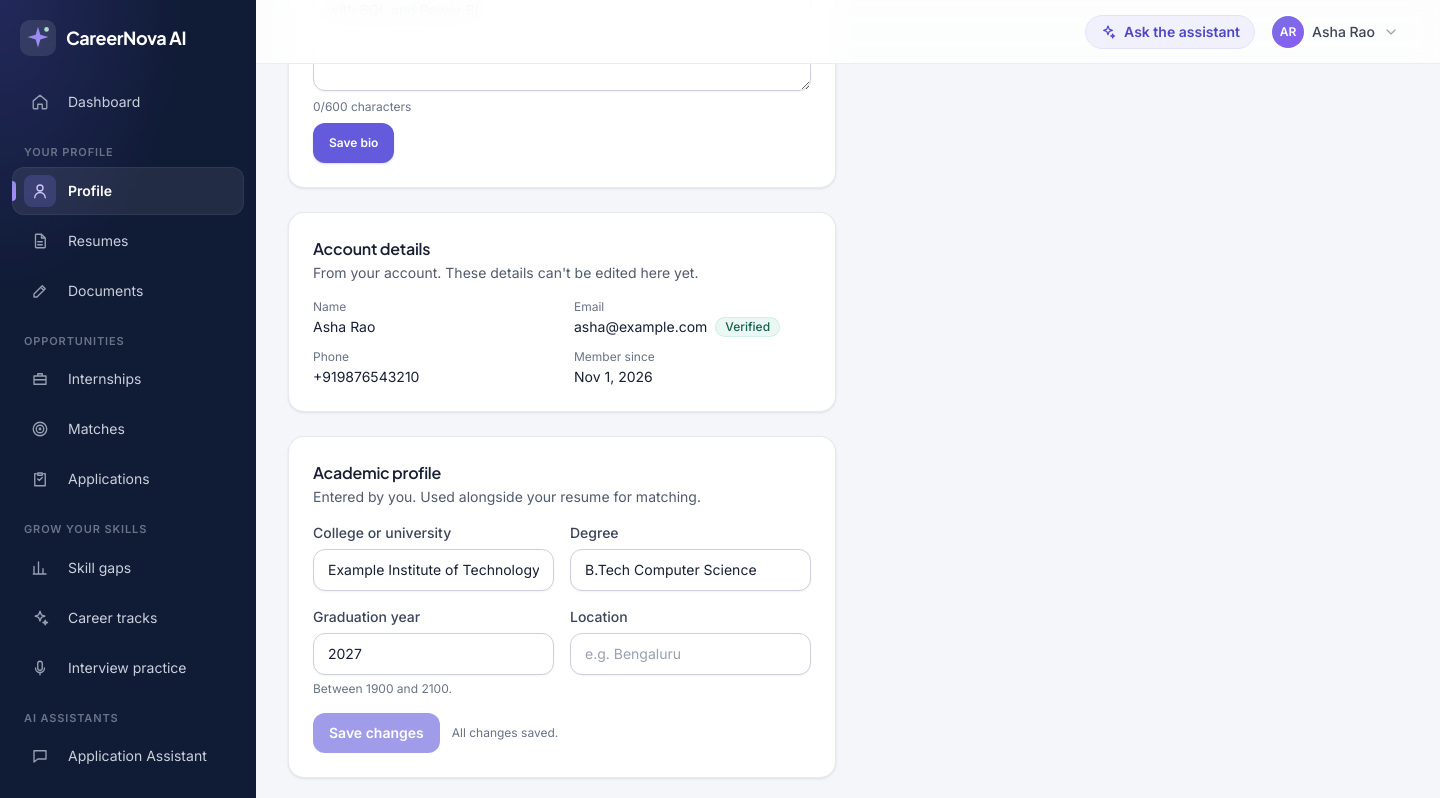
Scenario: Profile: existing profile › shows saved values and sends only the changed fields
This screenshot has width=1440, height=798.
(page scrolled)
Expected: the field labelled "Graduation year" holds "2027", [313,633,554,675]
Expected: the button "Save changes" is disabled, [313,713,440,753]
Type "Bengaluru" into the field labelled "Location" at x=690, y=654, box [570,633,811,675]
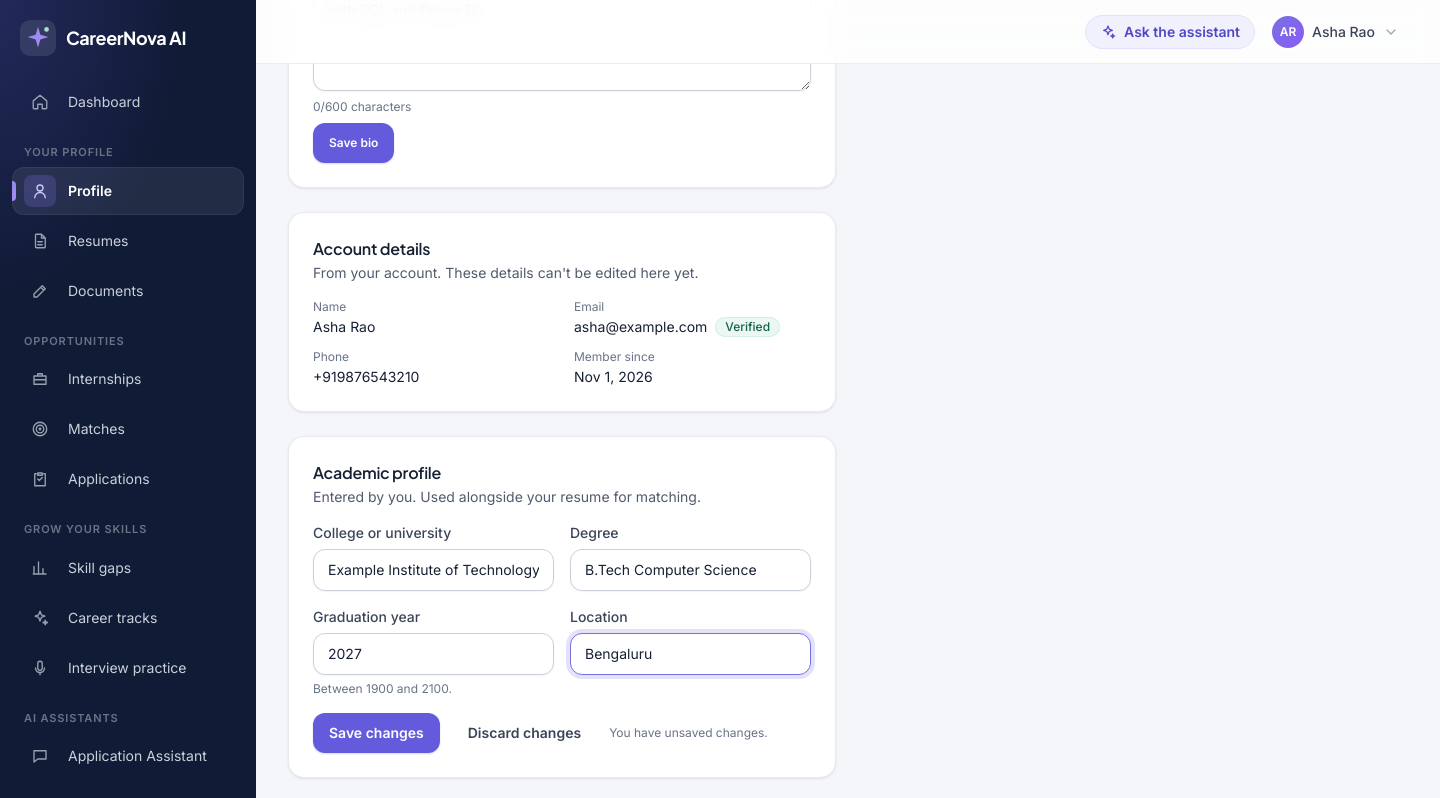
Clear the field showing "B.Tech Computer Science" at x=690, y=570, box [570,549,811,591]
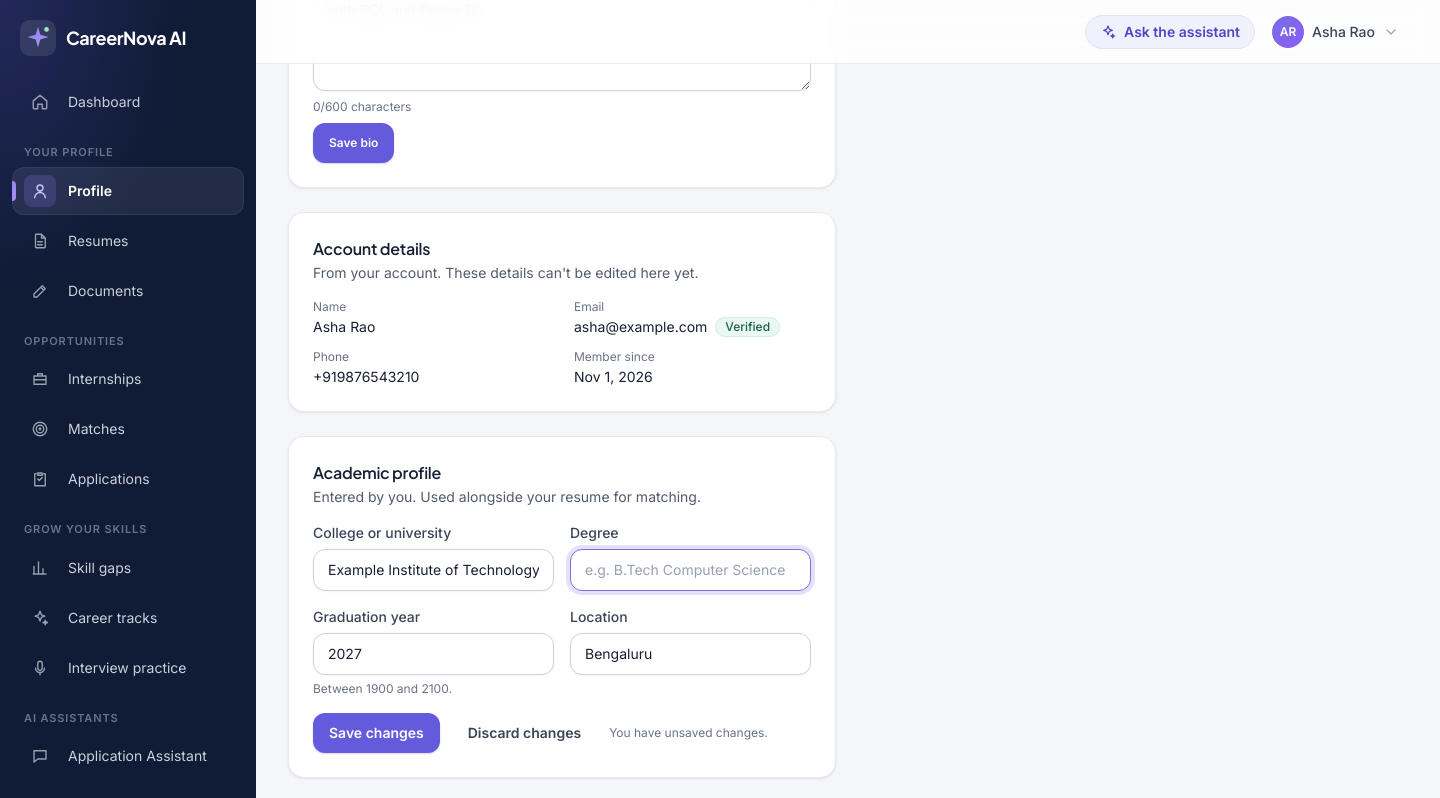
Now the text "You have unsaved changes." is shown, box [609,725,768,741]
Click the button "Save changes" at x=376, y=733, box [313,713,440,753]
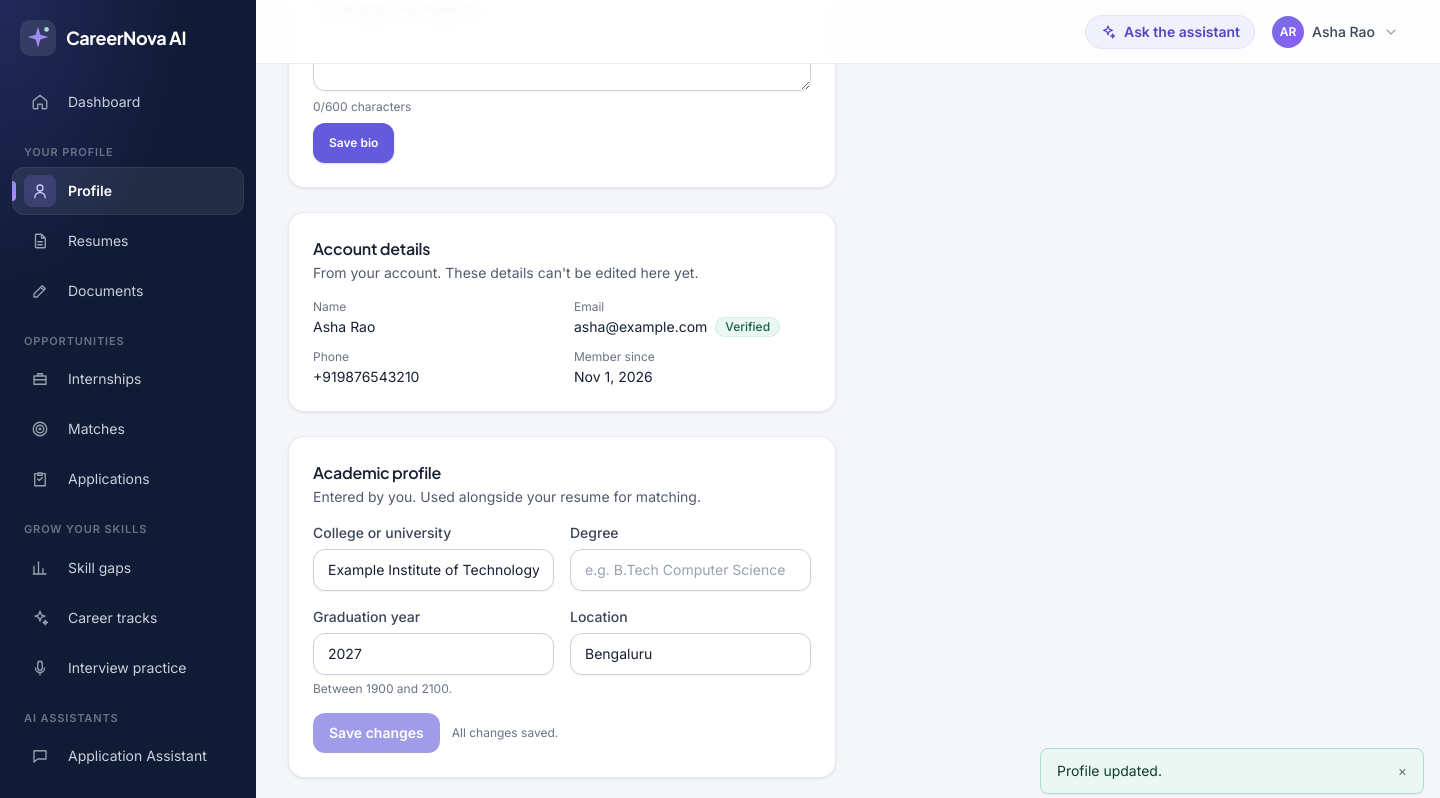
Now the text "Profile updated." is shown, box [1057,762,1162,779]
Now the text "All changes saved." is shown, box [452,725,558,741]
